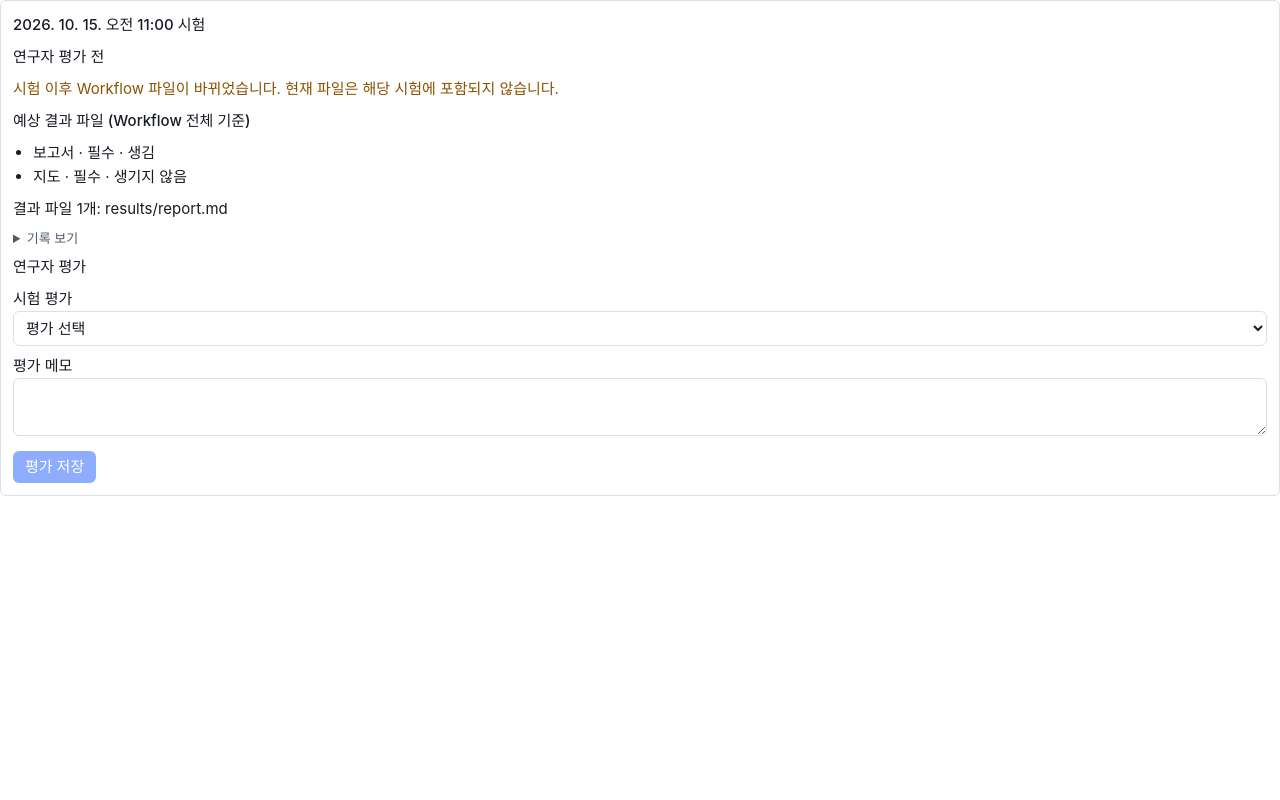
Test case: keeps assessment fields on save failure and reports the error
This screenshot has width=1280, height=800.
Select "실패" in the dropdown labelled "시험 평가": (640, 328) x1=13 y1=311 x2=1267 y2=346
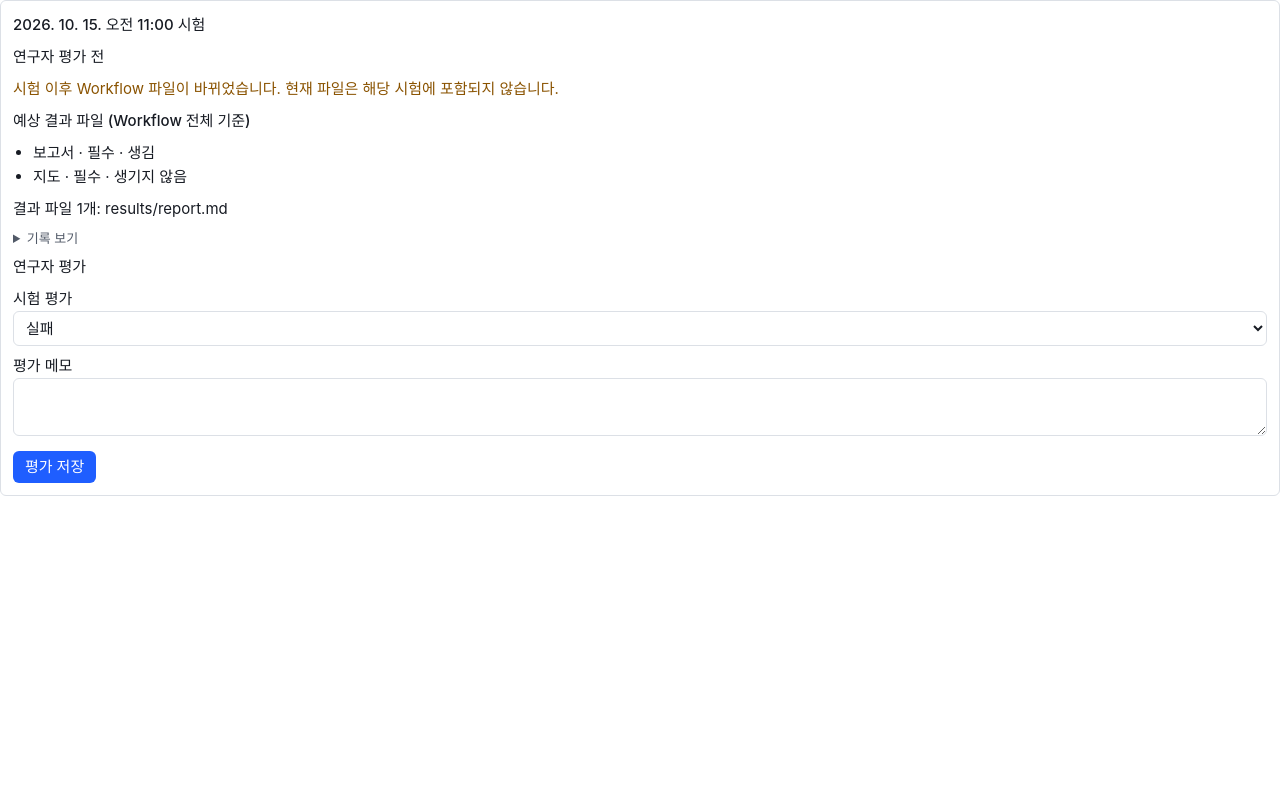
In the text box labelled "평가 메모": (640, 407) x1=13 y1=378 x2=1267 y2=436, type "다시 확인"
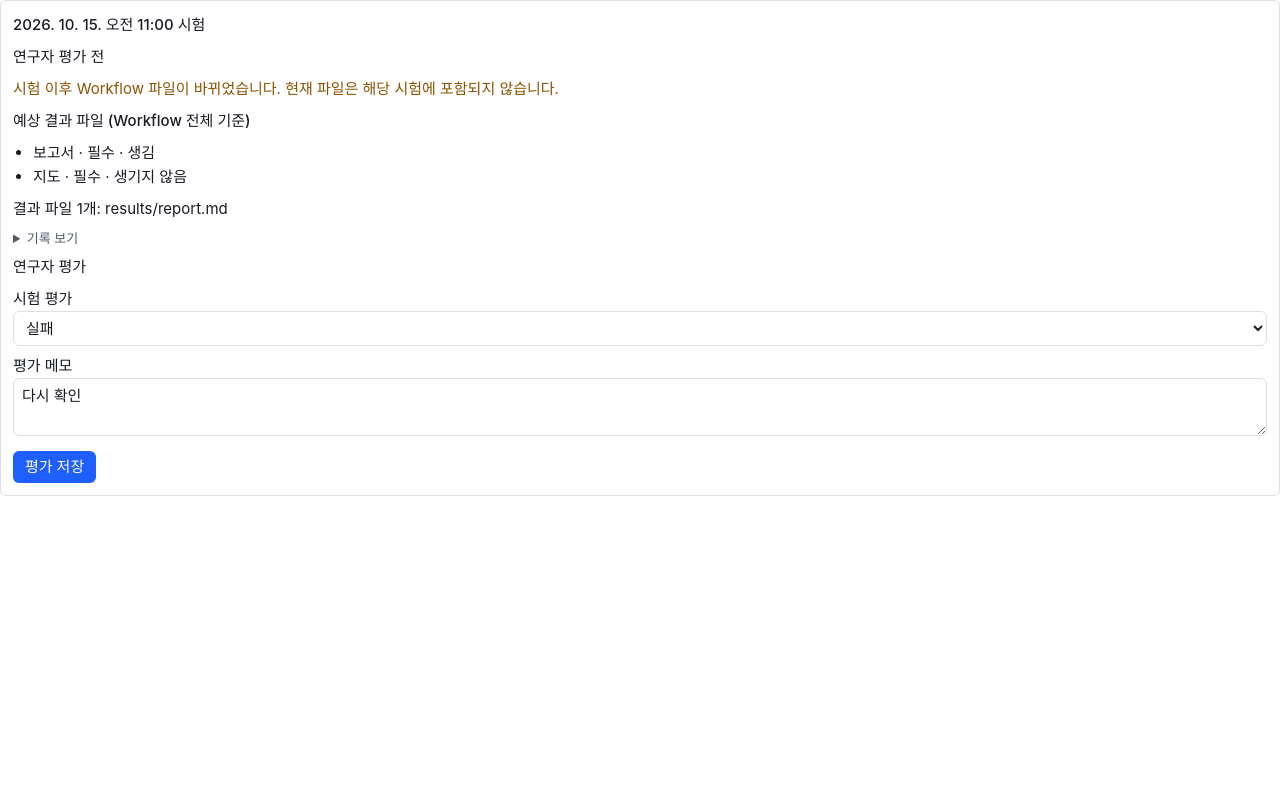
Click the button "평가 저장": (55, 467) x1=13 y1=451 x2=96 y2=483
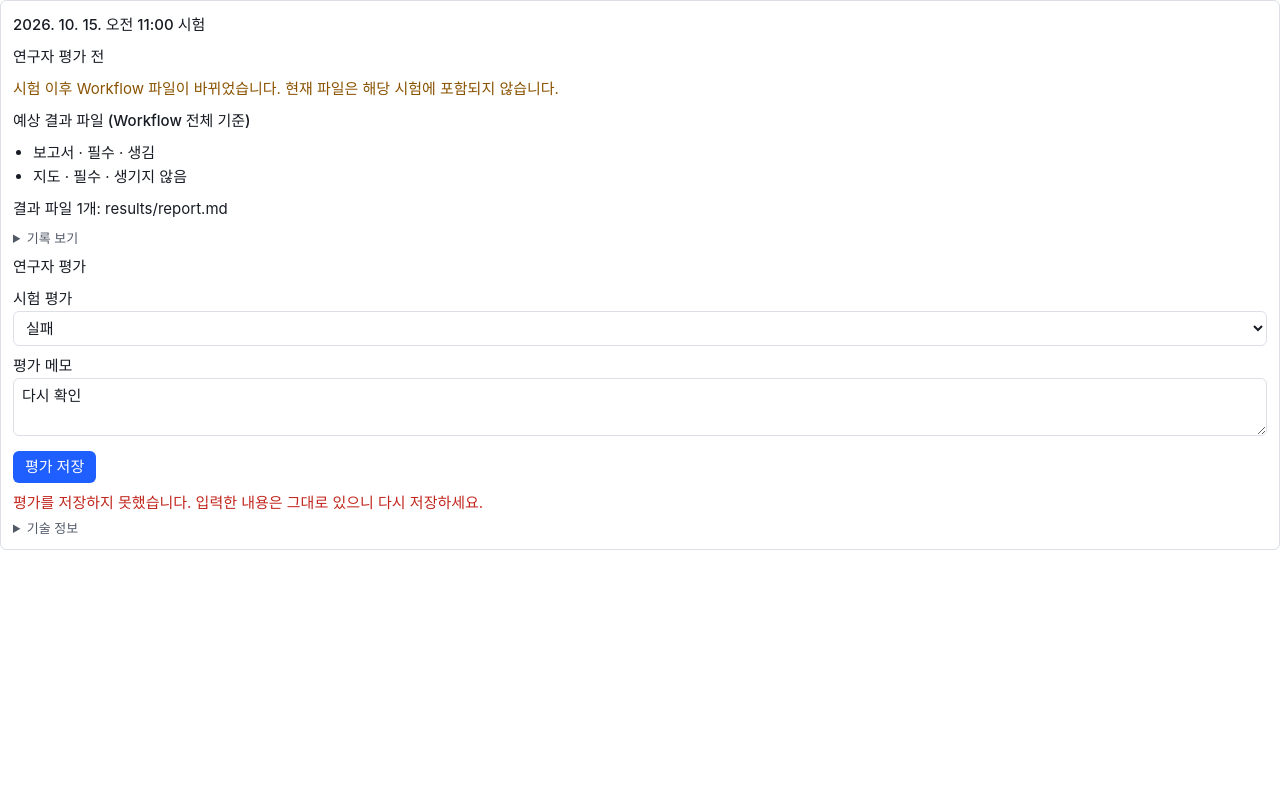
Now the message shows "평가를 저장하지 못했습니다.", box x1=13 y1=493 x2=483 y2=512
Now the text "Cannot write" is shown, box x1=27 y1=520 x2=78 y2=536
